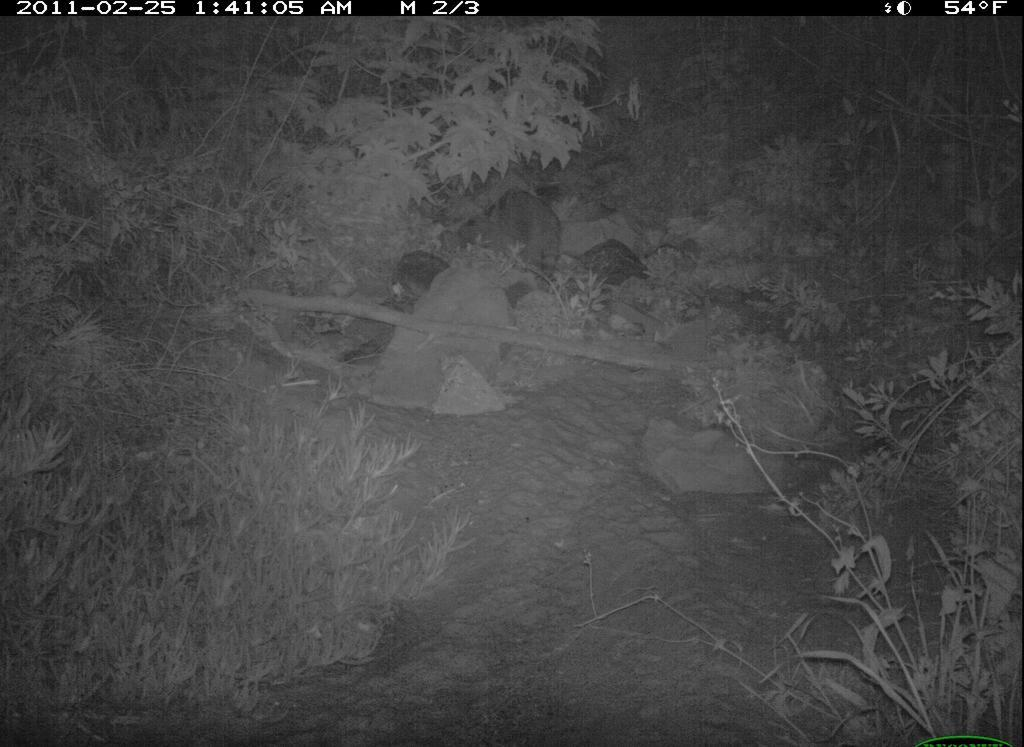raccoon: (493, 175, 574, 283)
